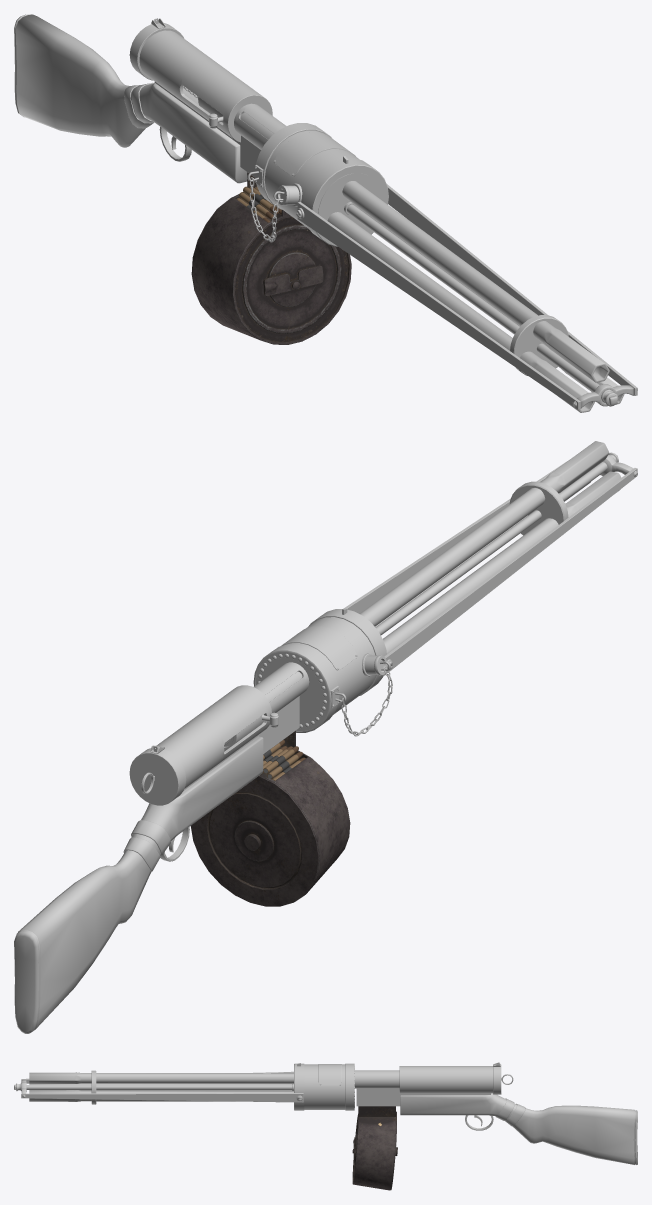
3 views of the same model, one above another, from view 1: azimuth 30°, elevation 25°; view 2: azimuth 150°, elevation 25°; view 3: azimuth 270°, elevation 25° (orthographic). The views are drawn at different scales.
Visible parts, largest first — view 1: Receiver, Magazine, Barrels, BoltCarrier; view 2: Receiver, Magazine, Barrels, BoltCarrier; view 3: Receiver, Barrels, Magazine.
Boxes of the visible parts, x1,y1,x2,y2 form: Receiver: (14, 14, 637, 409); Magazine: (191, 172, 351, 344); Barrels: (318, 173, 624, 412); BoltCarrier: (198, 97, 273, 139); Receiver: (14, 452, 637, 1033); Magazine: (190, 731, 350, 906); Barrels: (360, 441, 621, 654); BoltCarrier: (224, 671, 302, 751); Receiver: (14, 1062, 637, 1164); Barrels: (26, 1070, 293, 1104); Magazine: (352, 1106, 397, 1190).
Size of the model in its own units: 0.2105 by 0.3643 by 1.67.
